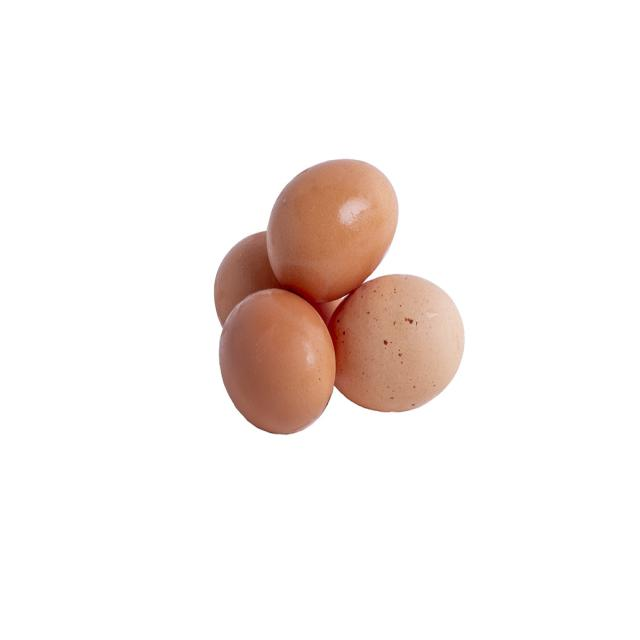Egg: (220, 160, 456, 432), (324, 271, 471, 415), (265, 147, 401, 298), (211, 289, 340, 441)
